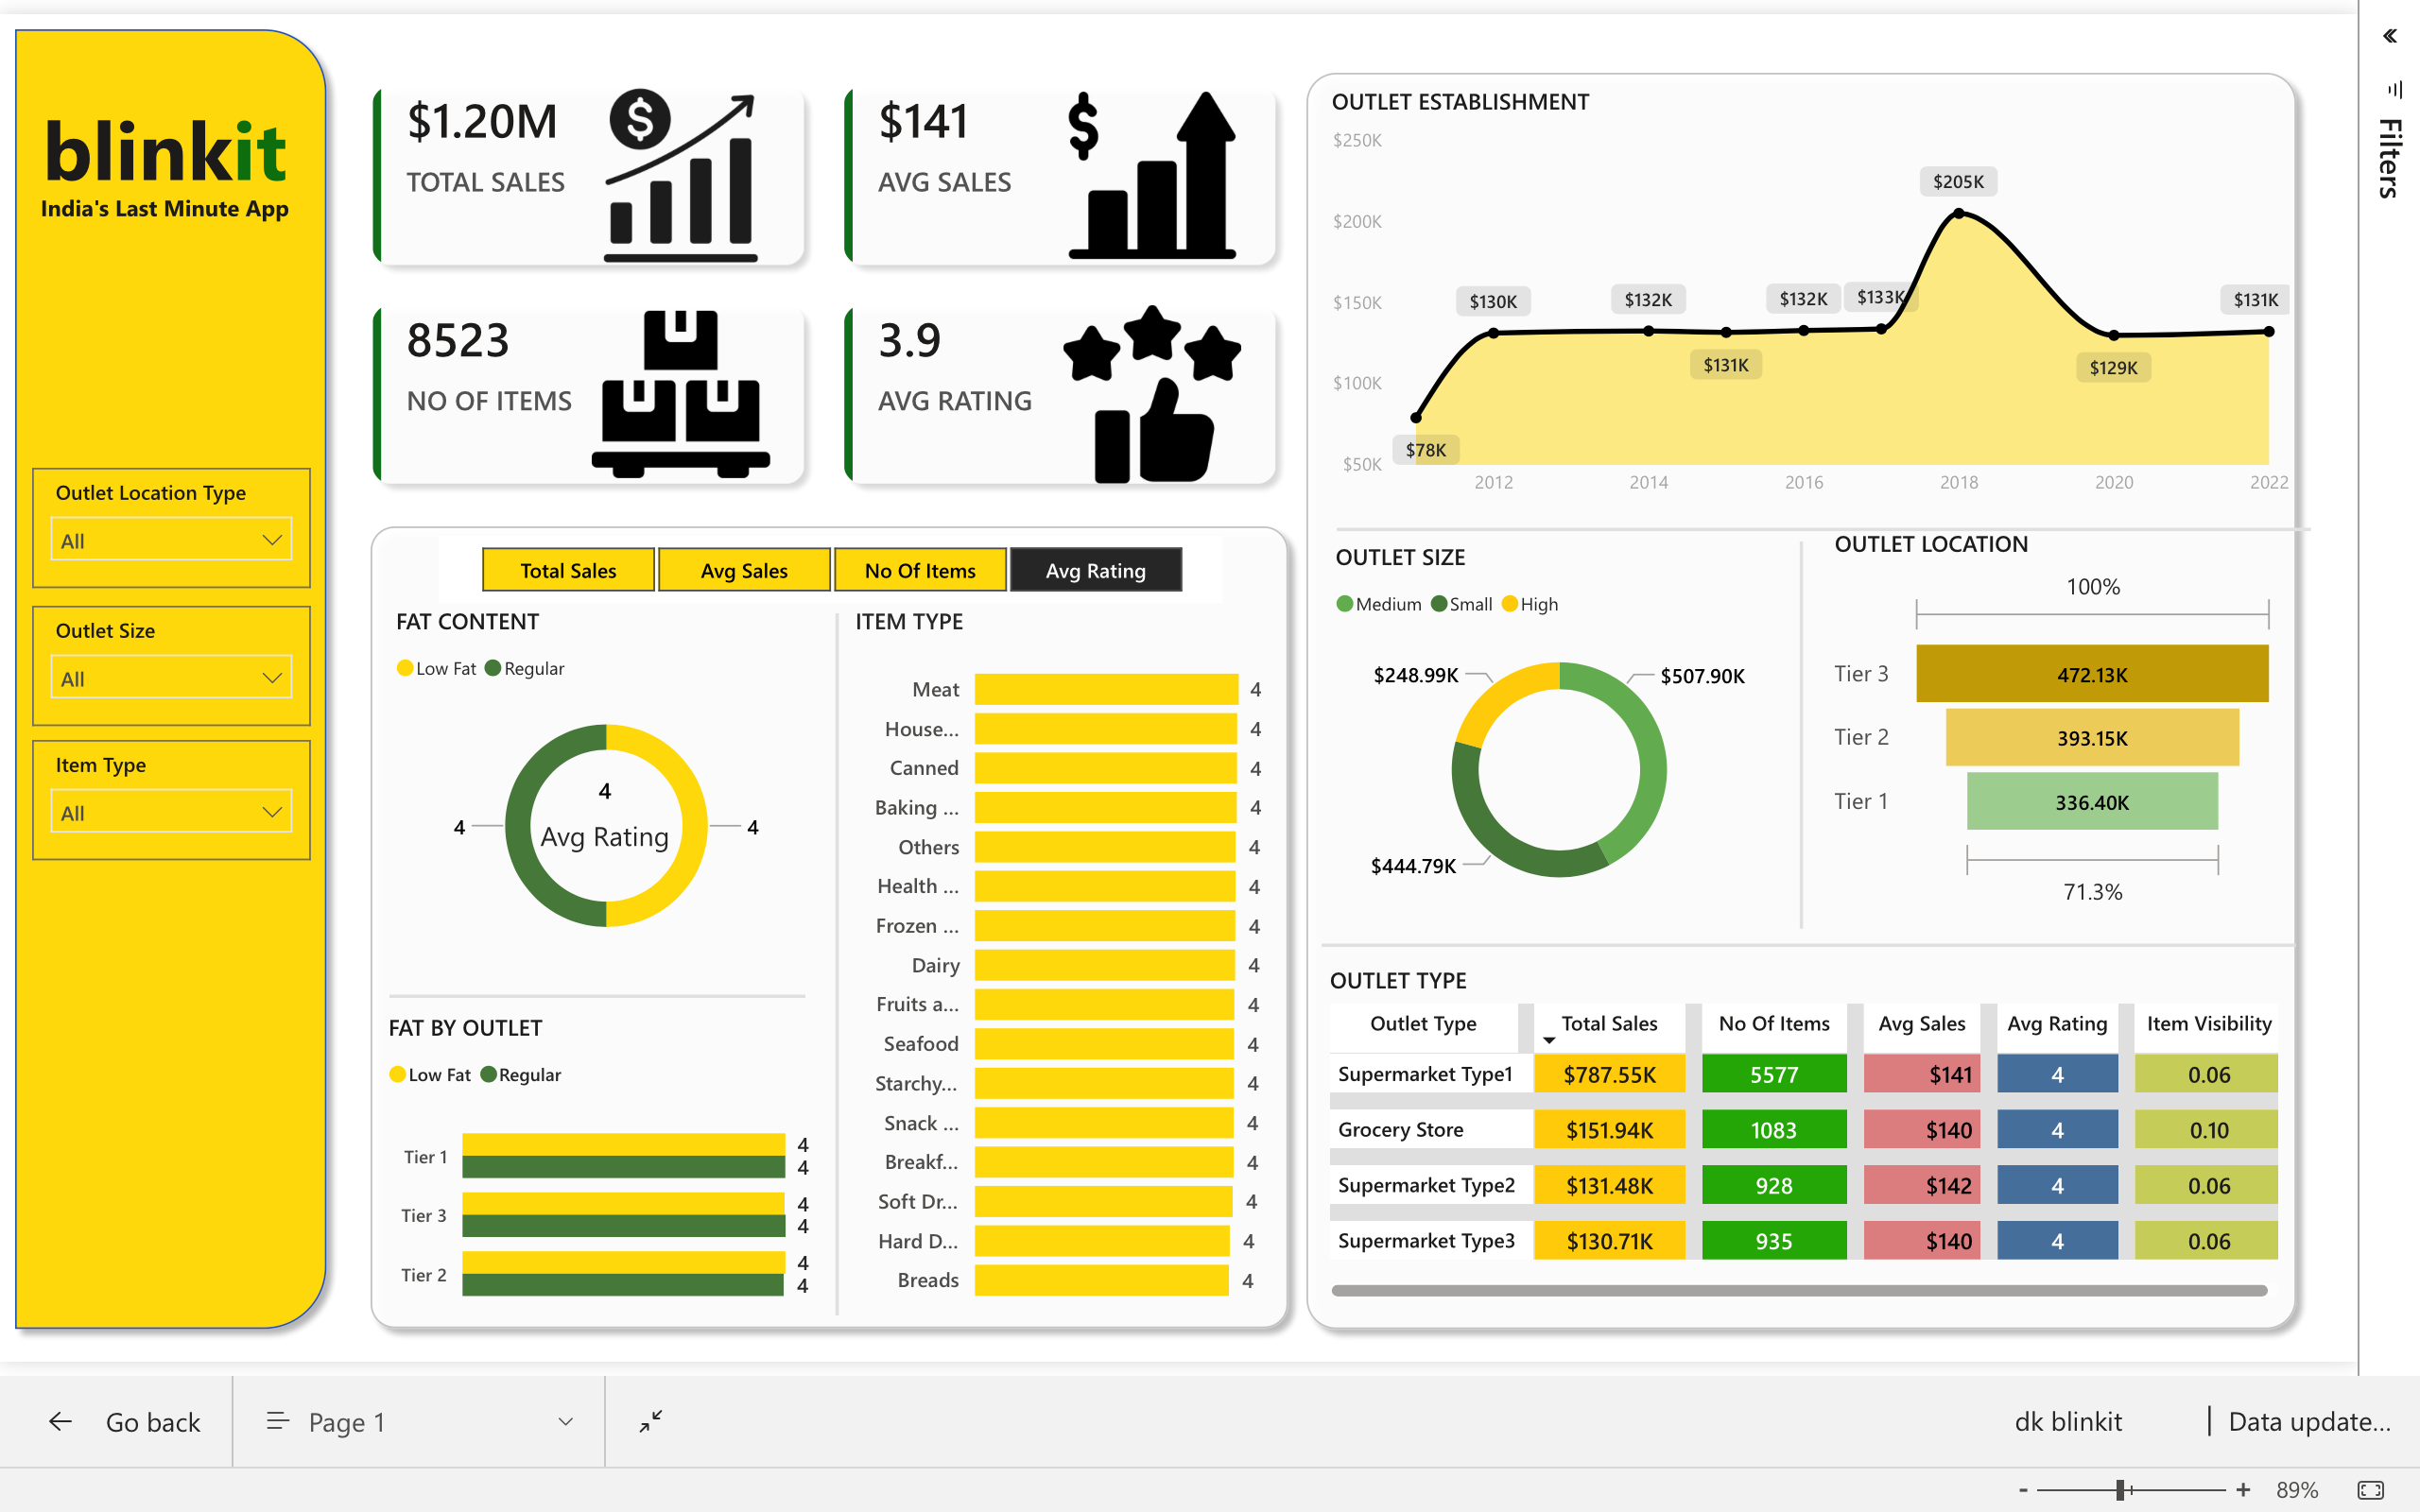

Layout of this report page (visuals, bound fields, positions):
{"tool":"powerbi","page":{"name":"Page 1","canvas":[1400,800],"ordinal":0},"visuals":[{"type":"shape","box":[0,0,202.9,790],"z":0},{"type":"textbox","box":[0,41.4,195.7,75.7],"z":1000},{"type":"textbox","box":[18.6,101.4,174.3,32.9],"z":2000},{"type":"cardVisual","fields":{"Data":["BlinkIT Grocery Data.Total Sales","BlinkIT Grocery Data.Avg Sales","BlinkIT Grocery Data.No Of Items","BlinkIT Grocery Data.Avg Rating"]},"box":[204.3,25.7,570,270],"z":3000},{"type":"shape","box":[211.4,295.7,562.9,494.3],"z":4000},{"type":"donutChart","title":"FAT CONTENT","fields":{"Y":["BlinkIT Grocery Data.No Of Items"],"Category":["BlinkIT Grocery Data.Item Fat Content"]},"box":[230,351.4,260,215.7],"z":5000},{"type":"slicer","fields":{"Values":["Metrics.Metrics"]},"box":[260,310,465.7,40],"z":6000},{"type":"cardVisual","fields":{"Data":["BlinkIT Grocery Data.No Of Items"]},"box":[295.7,431.4,128.6,87.1],"z":7000},{"type":"clusteredBarChart","title":"FAT BY OUTLET","fields":{"Y":["BlinkIT Grocery Data.No Of Items"],"Category":["BlinkIT Grocery Data.Outlet Location Type"],"Series":["BlinkIT Grocery Data.Item Fat Content"]},"box":[225.7,592.9,260,188.6],"z":8000},{"type":"shape","box":[231.4,542.9,247.1,80],"z":9000},{"type":"shape","box":[477.1,355.7,40,417.1],"z":10000},{"type":"barChart","title":"ITEM TYPE","fields":{"Y":["BlinkIT Grocery Data.No Of Items"],"Category":["BlinkIT Grocery Data.Item Type"]},"box":[502.9,351.4,251.4,424.3],"z":11000},{"type":"shape","box":[767.1,25.7,605.7,764.3],"z":12000},{"type":"lineChart","title":"OUTLET ESTABLISHMENT ","fields":{"Category":["BlinkIT Grocery Data.Outlet Establishment Year"],"Y":["BlinkIT Grocery Data.Total Sales"]},"box":[785.7,42.9,578.6,252.9],"z":13000},{"type":"shape","box":[794.3,265.7,578.6,80],"z":14000},{"type":"donutChart","title":"OUTLET SIZE","fields":{"Y":["BlinkIT Grocery Data.Total Sales"],"Category":["BlinkIT Grocery Data.Outlet Size"]},"box":[788.6,312.9,275.7,225.7],"z":15000},{"type":"shape","box":[1050,312.9,40,230],"z":16000},{"type":"funnel","title":"OUTLET LOCATION","fields":{"Y":["Sum(BlinkIT Grocery Data.Sales)"],"Category":["BlinkIT Grocery Data.Outlet Location Type"]},"box":[1084.3,305.7,272.9,230],"z":17000},{"type":"shape","box":[784.3,512.9,578.6,80],"z":18000},{"type":"pivotTable","title":"OUTLET TYPE","fields":{"Rows":["BlinkIT Grocery Data.Outlet Type"],"Values":["BlinkIT Grocery Data.Total Sales","BlinkIT Grocery Data.No Of Items","BlinkIT Grocery Data.Avg Sales","BlinkIT Grocery Data.Avg Rating","Avg(BlinkIT Grocery Data.Item Visibility)"]},"box":[784.3,564.3,572.9,202.9],"z":19000},{"type":"slicer","fields":{"Values":["BlinkIT Grocery Data.Outlet Size"]},"box":[18.6,351.4,165.7,71.4],"z":20000},{"type":"slicer","fields":{"Values":["BlinkIT Grocery Data.Item Type"]},"box":[18.6,431.4,165.7,71.4],"z":21000},{"type":"slicer","fields":{"Values":["BlinkIT Grocery Data.Outlet Location Type"]},"box":[18.6,270,165.7,71.4],"z":22000}]}

Visuals, with their boxes on the page's 1400x800 design canvas (x1, y1, x2, y2). These are canvas units, not pixel positions in the 2420x1512 screenshot, which may show the page scaled, cropped or inside an application window:
shape: box(0, 0, 203, 790)
textbox: box(0, 41, 196, 117)
textbox: box(19, 101, 193, 134)
cardVisual - BlinkIT Grocery Data.Total Sales x BlinkIT Grocery Data.Avg Sales: box(204, 26, 774, 296)
shape: box(211, 296, 774, 790)
"FAT CONTENT" donutChart: box(230, 351, 490, 567)
slicer - Metrics.Metrics: box(260, 310, 726, 350)
cardVisual - BlinkIT Grocery Data.No Of Items: box(296, 431, 424, 518)
"FAT BY OUTLET" clusteredBarChart: box(226, 593, 486, 782)
shape: box(231, 543, 478, 623)
shape: box(477, 356, 517, 773)
"ITEM TYPE" barChart: box(503, 351, 754, 776)
shape: box(767, 26, 1373, 790)
"OUTLET ESTABLISHMENT " lineChart: box(786, 43, 1364, 296)
shape: box(794, 266, 1373, 346)
"OUTLET SIZE" donutChart: box(789, 313, 1064, 539)
shape: box(1050, 313, 1090, 543)
"OUTLET LOCATION" funnel: box(1084, 306, 1357, 536)
shape: box(784, 513, 1363, 593)
"OUTLET TYPE" pivotTable: box(784, 564, 1357, 767)
slicer - BlinkIT Grocery Data.Outlet Size: box(19, 351, 184, 423)
slicer - BlinkIT Grocery Data.Item Type: box(19, 431, 184, 503)
slicer - BlinkIT Grocery Data.Outlet Location Type: box(19, 270, 184, 341)
